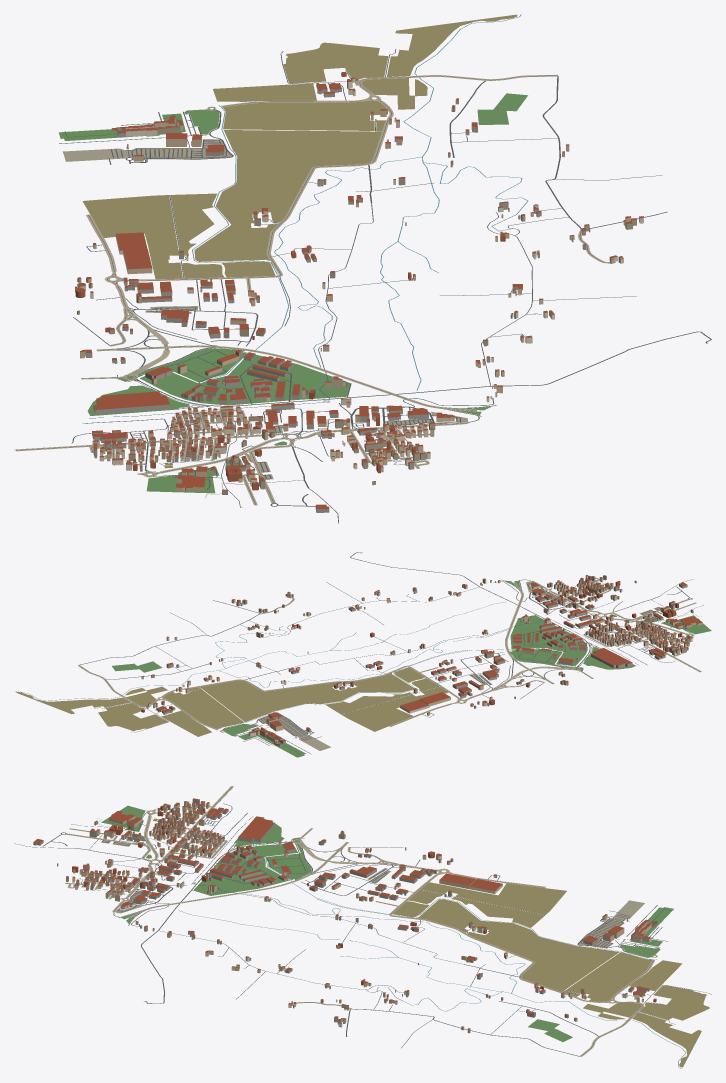
File: azalee.glb
3 renders of one model, top to bottom at view 1: azimuth 30°, elevation 25°; view 2: azimuth 150°, elevation 25°; view 3: azimuth 270°, elevation 25°, orthographic. The views are drawn at different scales.
Parts seen in each view (by area): view 1: quartiere-azalee; view 2: quartiere-azalee; view 3: quartiere-azalee.
Boxes of the visible parts, left/top/right/bottom form: quartiere-azalee: left=14, top=14, right=711, bottom=523; quartiere-azalee: left=15, top=552, right=711, bottom=757; quartiere-azalee: left=14, top=786, right=711, bottom=1068.
Size of the model in its own units: 3520 by 32.06 by 3671.
